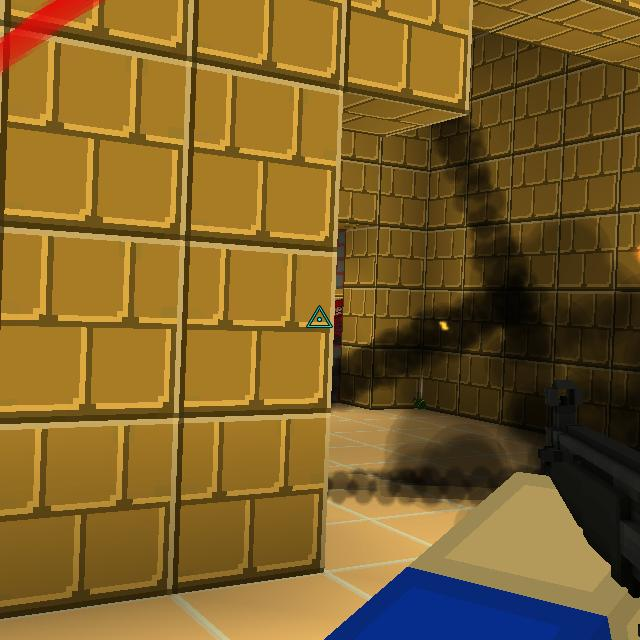enemy: (334, 297, 344, 345)
